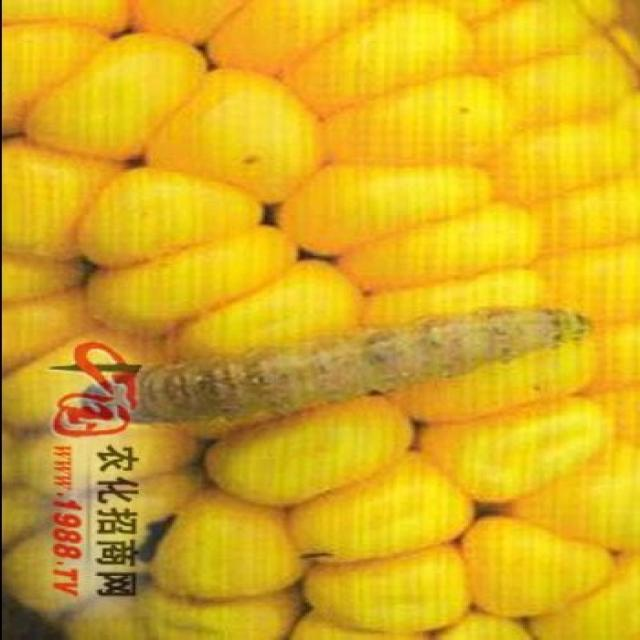peach borer: (83, 306, 593, 438)
